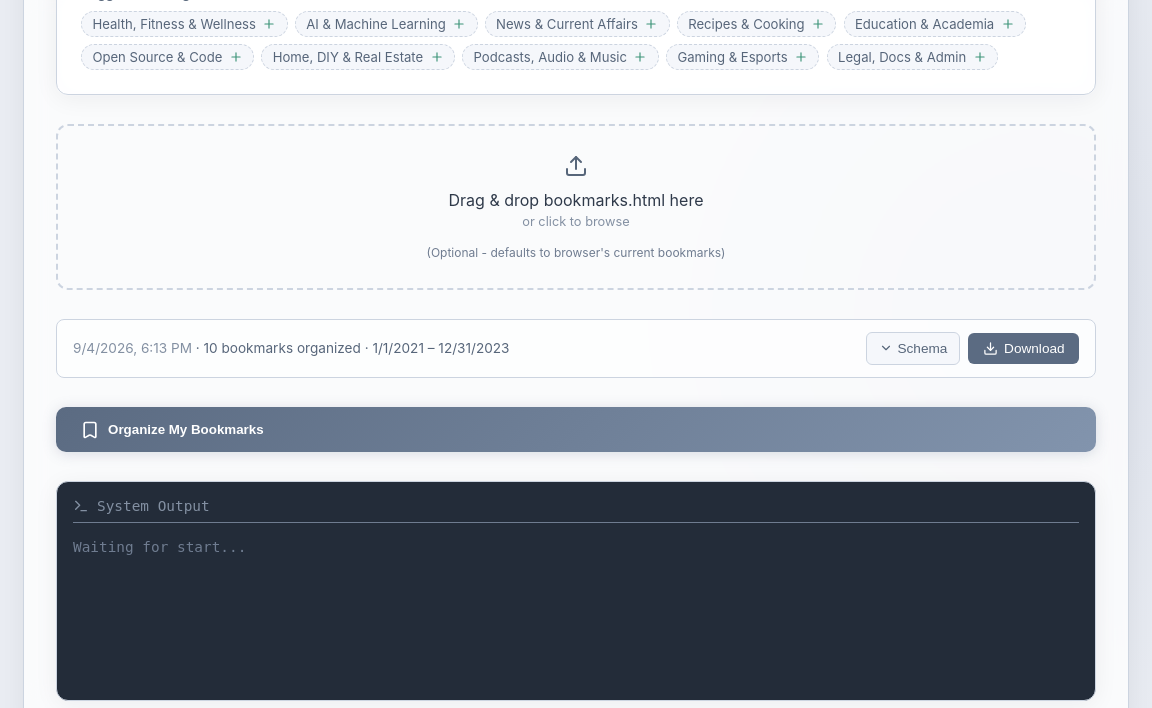
Test: Last run banner date reporting › displays date span in the idle schema drawer header when expanded
(page scrolled)
Click the button "Schema". click: (913, 348)
box: [866,332,960,365]
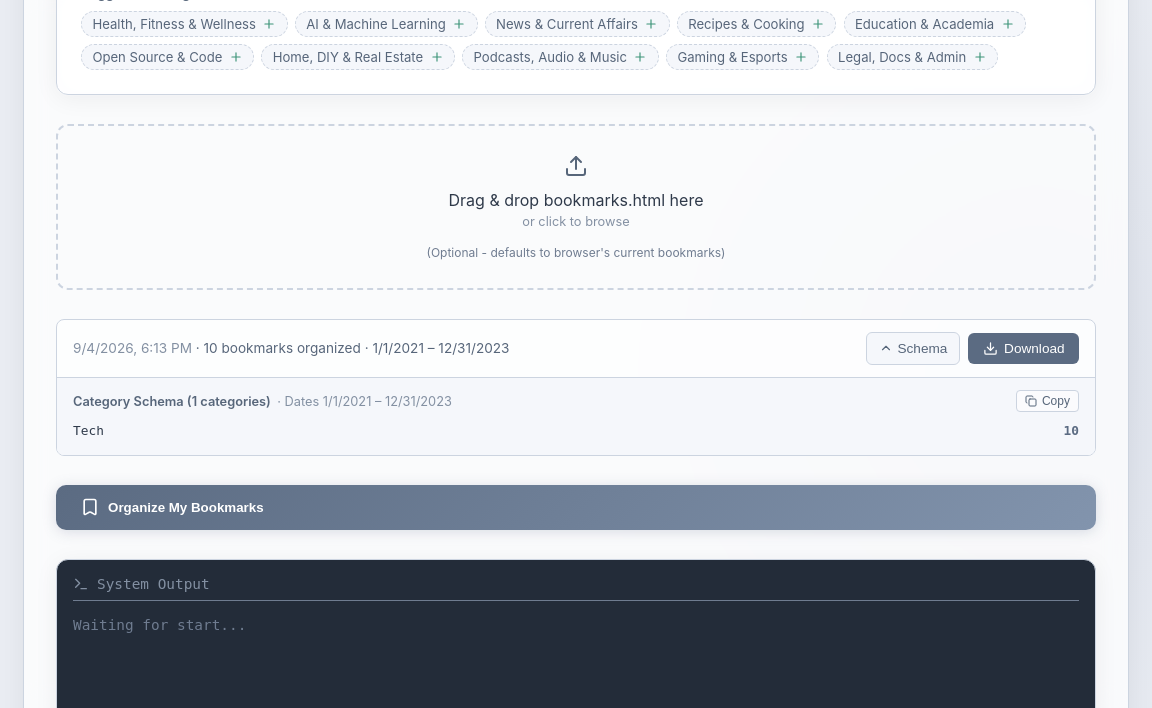
Expected: the text "· Dates 1/1/2021 – 12/31/2023" is shown once, [277,394,452,409]
